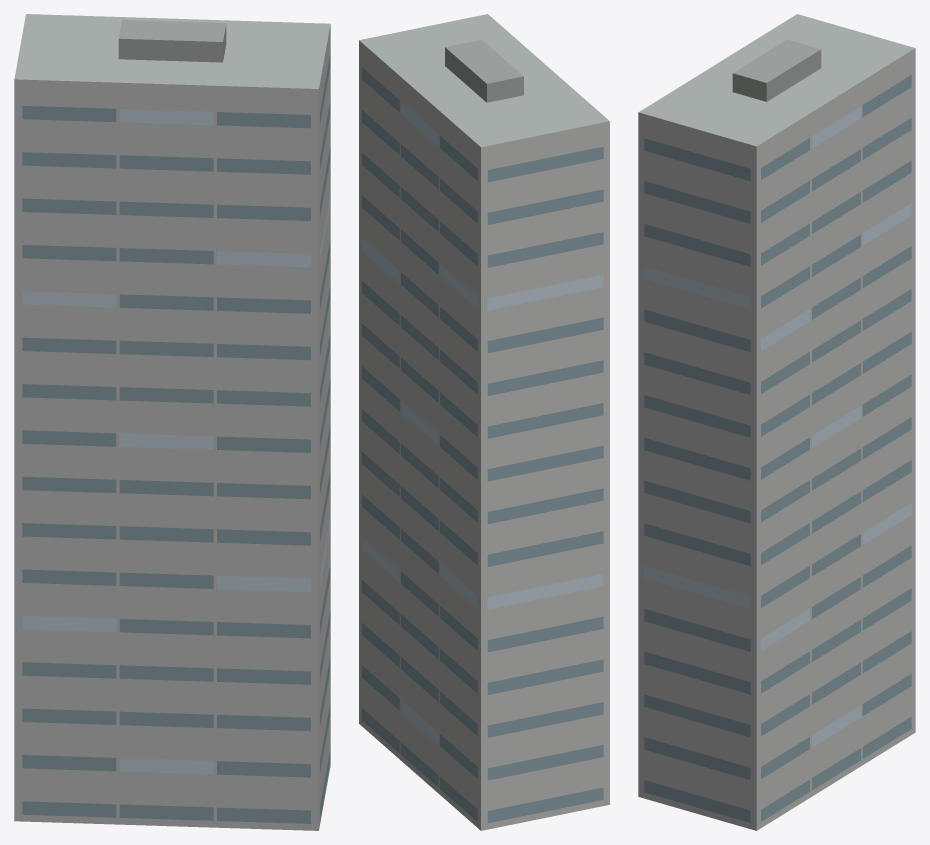
The model's file is fallback-jamsil-parkrio-208.glb.
3 views of the same model, side by side, from view 1: azimuth 30°, elevation 25°; view 2: azimuth 150°, elevation 25°; view 3: azimuth 270°, elevation 25° (orthographic). The views are drawn at different scales.
Parts seen in each view (by area): view 1: fallback-jamsil-parkrio-208; view 2: fallback-jamsil-parkrio-208; view 3: fallback-jamsil-parkrio-208.
Boxes of the visible parts, x1,y1,x2,y2 form: fallback-jamsil-parkrio-208: (14, 14, 330, 830); fallback-jamsil-parkrio-208: (359, 14, 609, 830); fallback-jamsil-parkrio-208: (638, 14, 915, 830).
Bounding box in the file's own units: 35.94 × 89 × 31.77.
